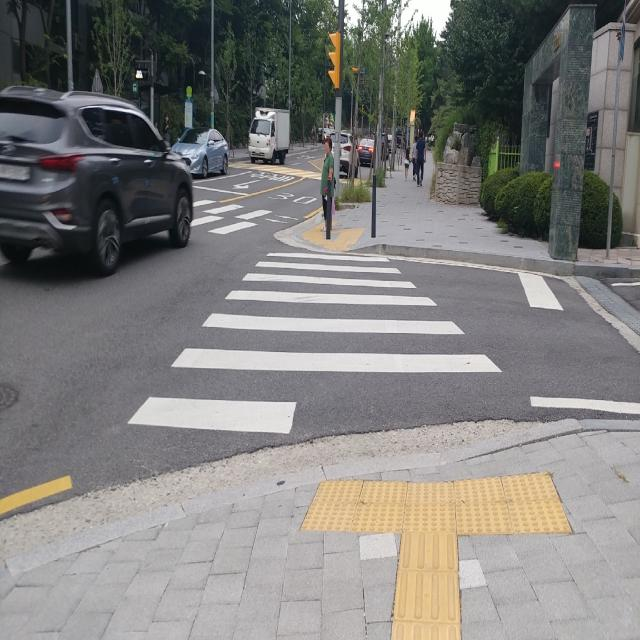횡단보도: (128, 253, 502, 435), (195, 201, 285, 243)
